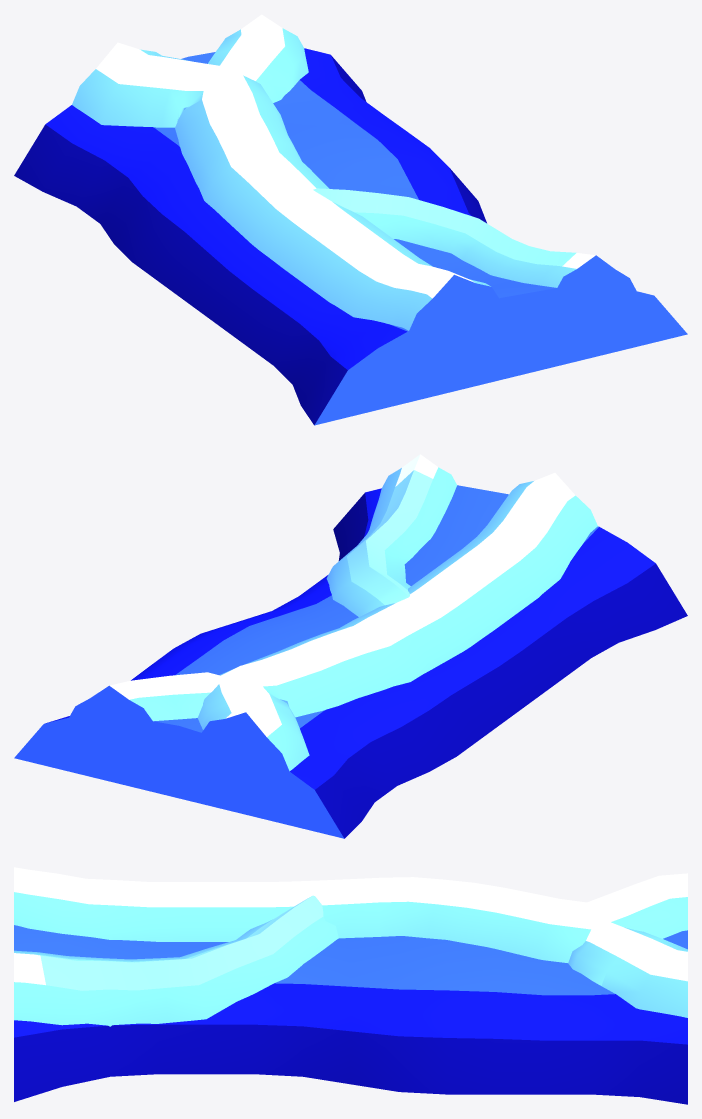
Rendered from shot_lightning_229.glb.
3 views of the same model, one above another, from view 1: azimuth 30°, elevation 25°; view 2: azimuth 150°, elevation 25°; view 3: azimuth 270°, elevation 25° (orthographic). The views are drawn at different scales.
Visible parts, largest first — view 1: shot_lightning_229_0, shot_lightning_229_1, shot_lightning_229_3, shot_lightning_229_2; view 2: shot_lightning_229_0, shot_lightning_229_1, shot_lightning_229_3, shot_lightning_229_2; view 3: shot_lightning_229_0, shot_lightning_229_1, shot_lightning_229_3, shot_lightning_229_2.
Part boxes in pixels (x1,y1,x2,y2): shot_lightning_229_0: (14,48,687,425); shot_lightning_229_1: (72,42,500,336); shot_lightning_229_3: (313,188,638,296); shot_lightning_229_2: (208,14,308,102); shot_lightning_229_0: (14,485,687,838); shot_lightning_229_1: (197,473,597,776); shot_lightning_229_3: (326,454,456,616); shot_lightning_229_2: (66,672,222,725); shot_lightning_229_0: (14,925,687,1104); shot_lightning_229_1: (14,867,687,962); shot_lightning_229_3: (14,895,338,1026); shot_lightning_229_2: (568,920,687,1017).
Bounding box in the file's own units: 9.25 × 2.72 × 14.
